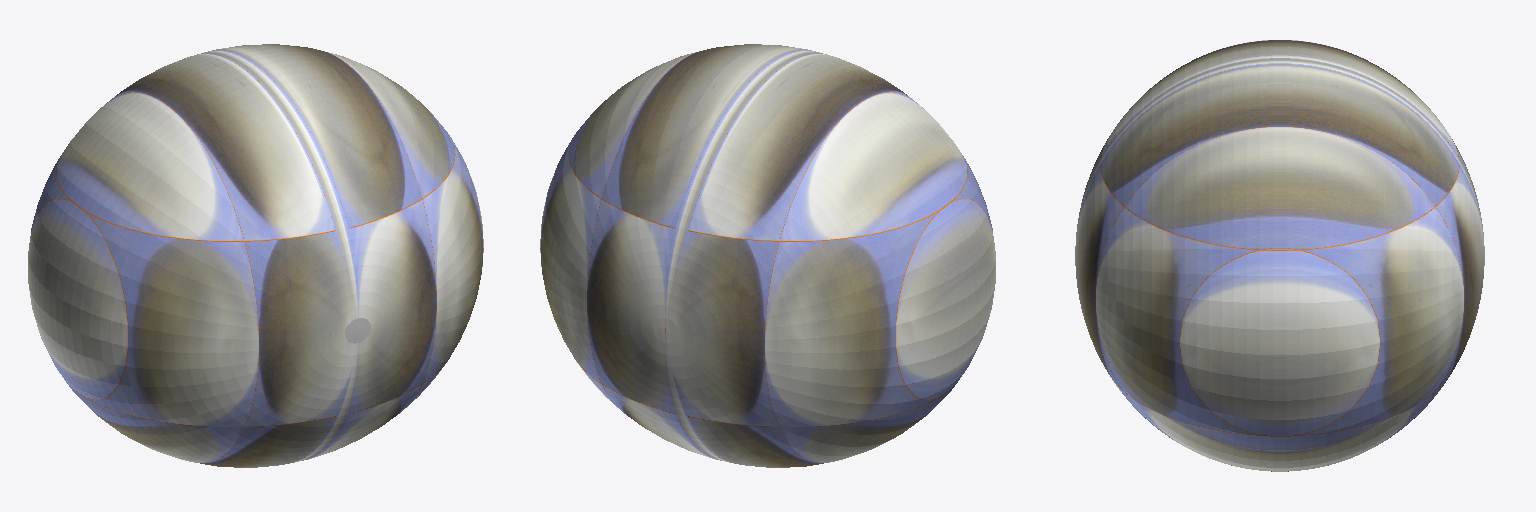
3 views of the same model, side by side, from view 1: azimuth 30°, elevation 25°; view 2: azimuth 150°, elevation 25°; view 3: azimuth 270°, elevation 25° (orthographic).
Visible parts, largest first — view 1: grp1; view 2: grp1; view 3: grp1.
Part boxes in pixels (x1,y1,x2,y2): grp1: (28,44,483,467); grp1: (540,44,995,467); grp1: (1075,40,1484,471).
Size of the model in its own units: 2 by 1.8 by 1.74.
1 materials, 1 textured.